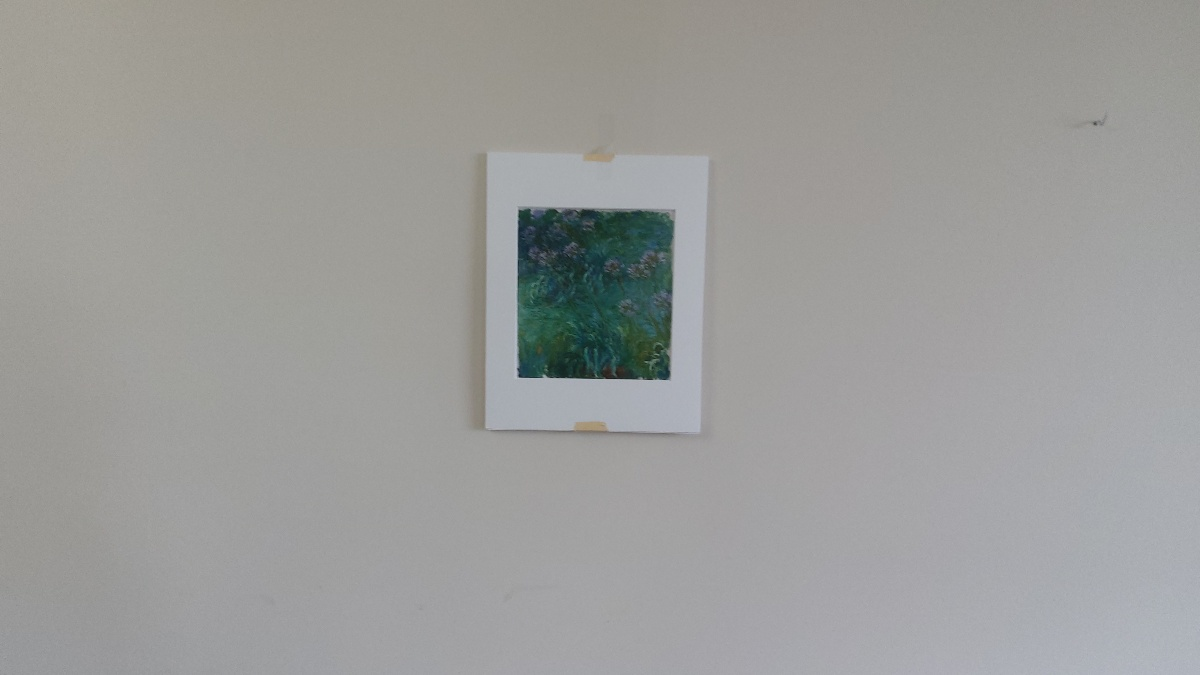painting: (507, 199, 681, 390)
